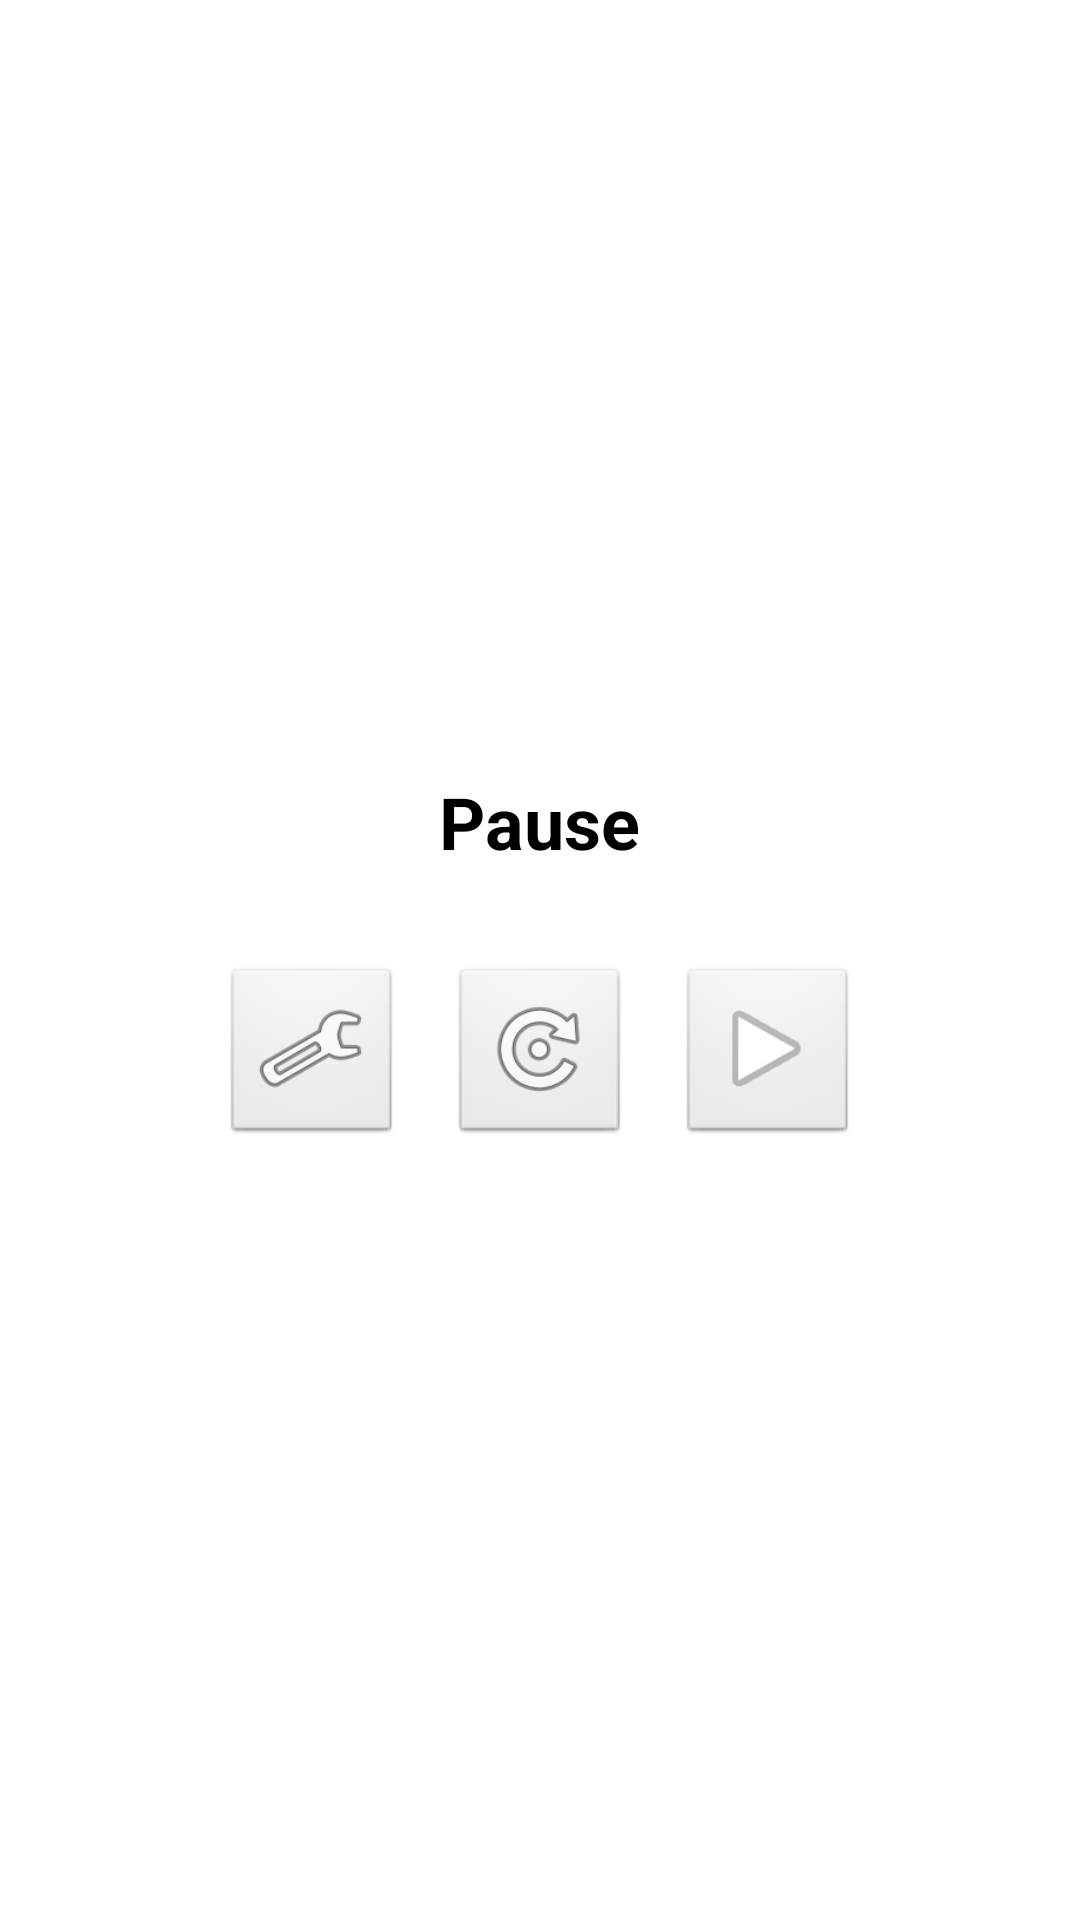

Icons on this 1080×1920 Android screen, each with the point to tap as (x,y):
manage: (311,1051)
play: (767,1051)
rotate: (539,1051)
